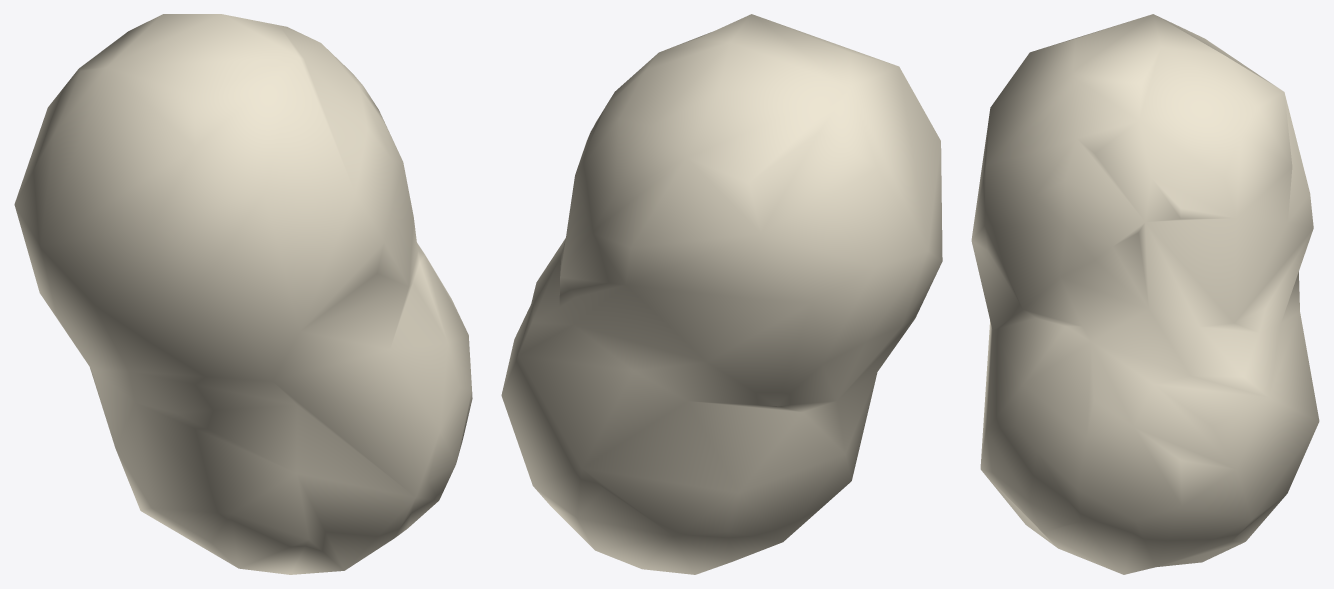
The model's file is caudal_10.glb.
3 views of the same model, side by side, from view 1: azimuth 30°, elevation 25°; view 2: azimuth 150°, elevation 25°; view 3: azimuth 270°, elevation 25° (orthographic). The views are drawn at different scales.
Parts seen in each view (by area): view 1: geometry_0; view 2: geometry_0; view 3: geometry_0.
Boxes of the visible parts, x1=… form: geometry_0: x1=14, y1=14, x2=472, y2=574; geometry_0: x1=501, y1=14, x2=942, y2=574; geometry_0: x1=971, y1=14, x2=1319, y2=574.
Bounding box in the file's own units: 0.0358 × 0.047 × 0.0301.
